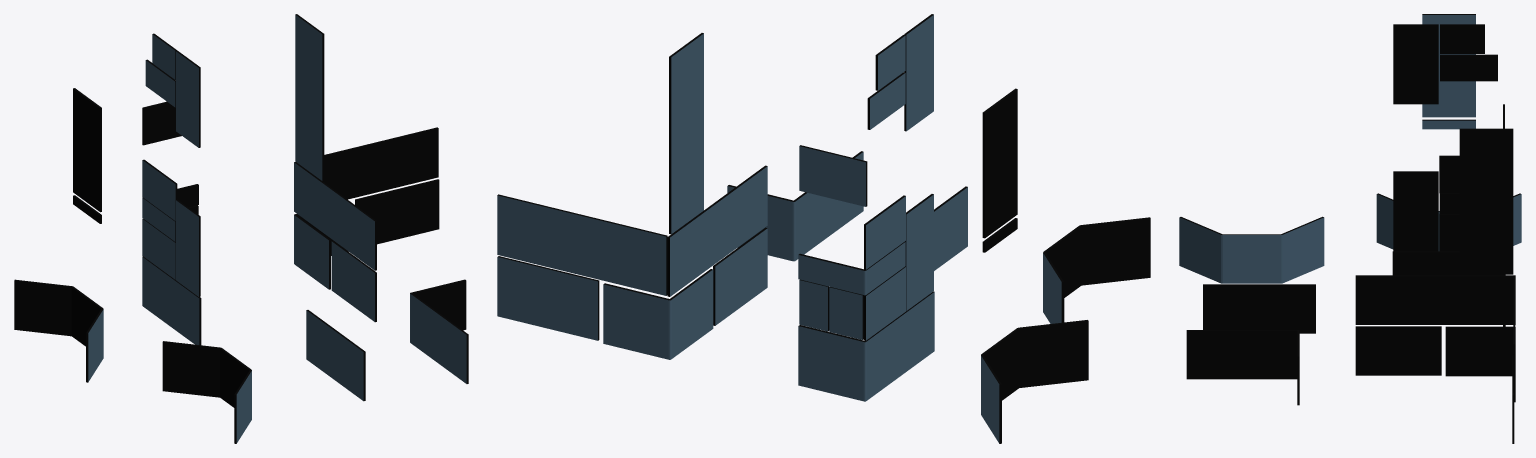
Rendered from tv_pub.fbx.
3 views of the same model, side by side, from view 1: azimuth 30°, elevation 25°; view 2: azimuth 150°, elevation 25°; view 3: azimuth 270°, elevation 25° (orthographic). The views are drawn at different scales.
Parts seen in each view (by area): view 1: wall_tv2, wall_tv, wall_tv1, tv_inc, tv_angle, tv; view 2: wall_tv2, wall_tv, wall_tv1, tv_inc, tv_angle, tv; view 3: wall_tv2, wall_tv, tv_inc, tv_angle, tv, wall_tv1.
Part boxes in pixels (x1,y1,x2,y2): wall_tv2: [294, 14, 439, 322]; wall_tv: [142, 33, 201, 345]; wall_tv1: [14, 88, 103, 382]; tv_inc: [162, 341, 251, 443]; tv_angle: [410, 279, 468, 383]; tv: [306, 310, 365, 401]; wall_tv2: [497, 33, 767, 359]; wall_tv: [798, 14, 934, 401]; wall_tv1: [981, 88, 1088, 443]; tv_inc: [1043, 217, 1150, 323]; tv_angle: [727, 151, 863, 261]; tv: [934, 186, 967, 270]; wall_tv2: [1355, 128, 1515, 443]; wall_tv: [1392, 24, 1505, 326]; tv_inc: [1179, 216, 1324, 283]; tv_angle: [1186, 330, 1299, 405]; tv: [1203, 284, 1315, 333]; wall_tv1: [1376, 14, 1521, 250].
Bounding box in the file's own units: 64470 × 40881 × 45958.
